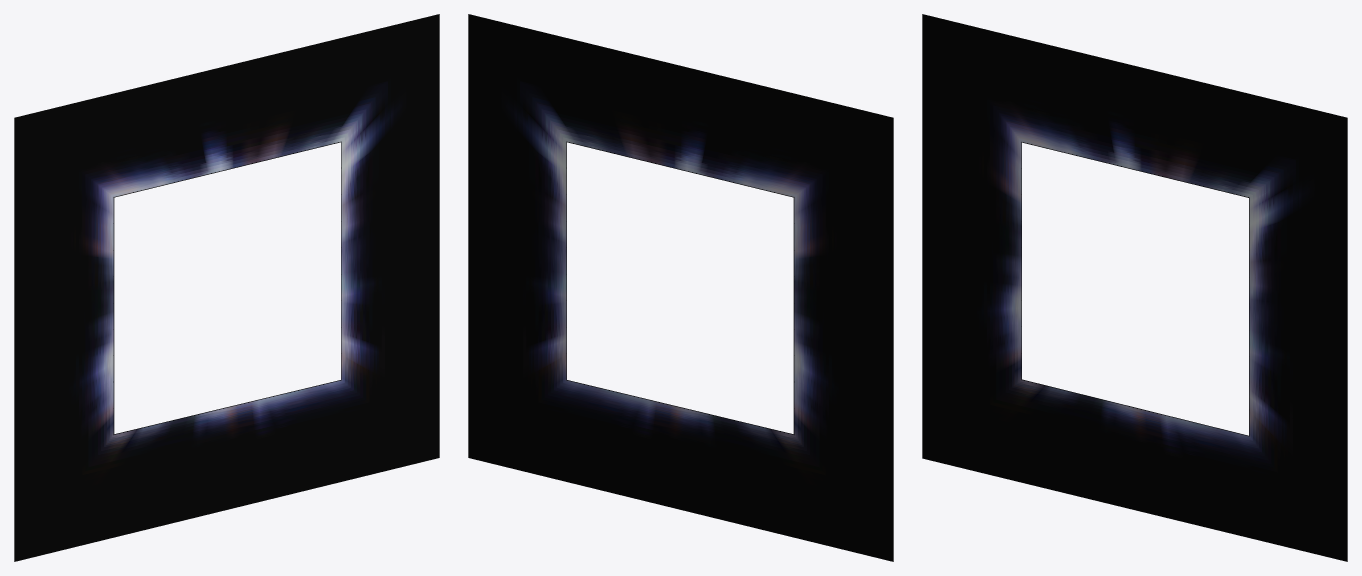
The model's file is choujiang_biankuang.FBX.
The picture shows the model from 3 angles, left to right: view 1: azimuth 30°, elevation 25°; view 2: azimuth 150°, elevation 25°; view 3: azimuth 330°, elevation 25°; orthographic projection.
Visible parts, largest first — view 1: Plane005; view 2: Plane005; view 3: Plane005.
Part boxes in pixels (x1,y1,x2,y2): Plane005: [14, 14, 439, 561]; Plane005: [468, 14, 893, 561]; Plane005: [922, 14, 1347, 561].
Size of the model in its own units: 131 by 130 by 5.7e-06.
Materials: 1 (1 with a texture image).
